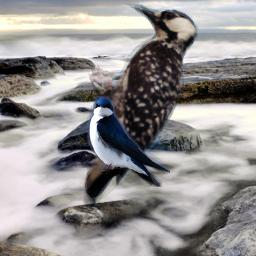Swallow: (87, 96, 170, 187)
Woodpecker: (78, 2, 211, 215)
